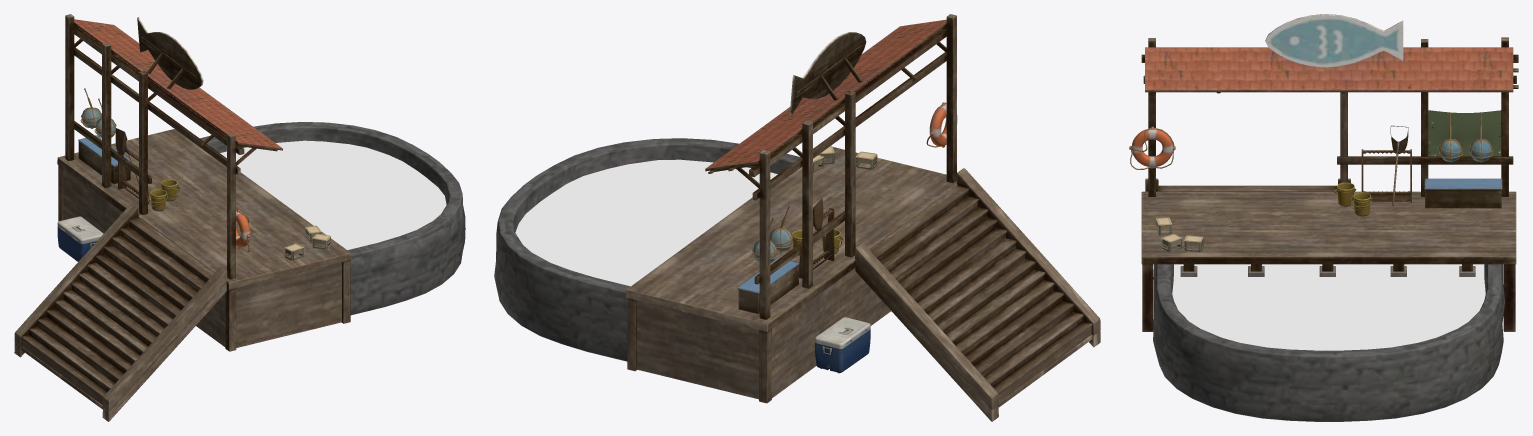
Rendered from SM_FishingPond_Large_4e69fb.glb.
3 renders of one model, left to right at view 1: azimuth 30°, elevation 25°; view 2: azimuth 150°, elevation 25°; view 3: azimuth 270°, elevation 25°, orthographic. The views are drawn at different scales.
Bounding box in the file's own units: 14.17 × 9.44 × 10.59.
6 materials, 5 textured.
